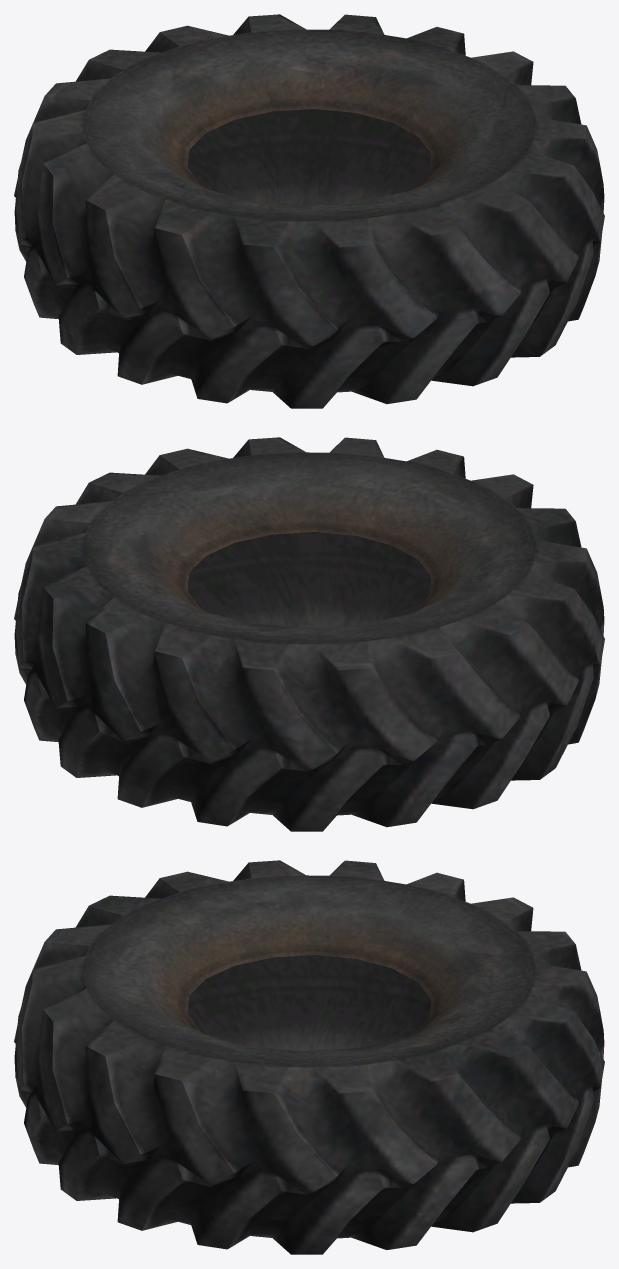
Rendered from Vehicle_Tire02.FBX.
The picture shows the model from 3 angles, top to bottom: view 1: azimuth 30°, elevation 25°; view 2: azimuth 150°, elevation 25°; view 3: azimuth 270°, elevation 25°; orthographic projection.
Visible parts, largest first — view 1: Vehicle_Tire02; view 2: Vehicle_Tire02; view 3: Vehicle_Tire02.
Boxes of the visible parts, x1,y1,x2,y2 form: Vehicle_Tire02: (14,14,604,408); Vehicle_Tire02: (14,437,604,831); Vehicle_Tire02: (14,860,604,1254).
Bounding box in the file's own units: 1.38 × 0.4421 × 1.38.
